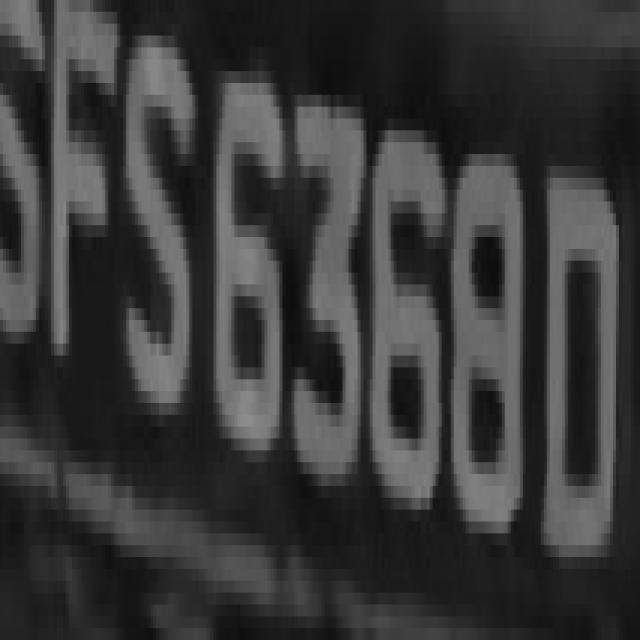3: (286, 71, 366, 498)
6: (205, 47, 292, 486), (367, 95, 448, 545)
8: (436, 119, 532, 545)
D: (535, 130, 625, 604)
F: (48, 0, 120, 439)
S: (114, 12, 195, 438), (6, 0, 51, 391)
